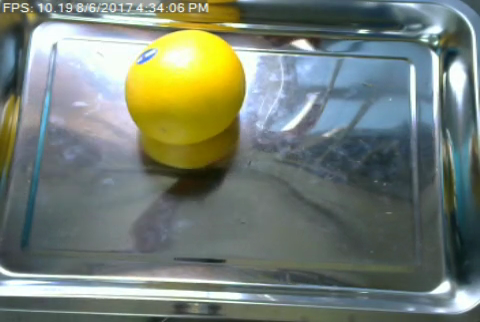Orange: (123, 28, 246, 145)
